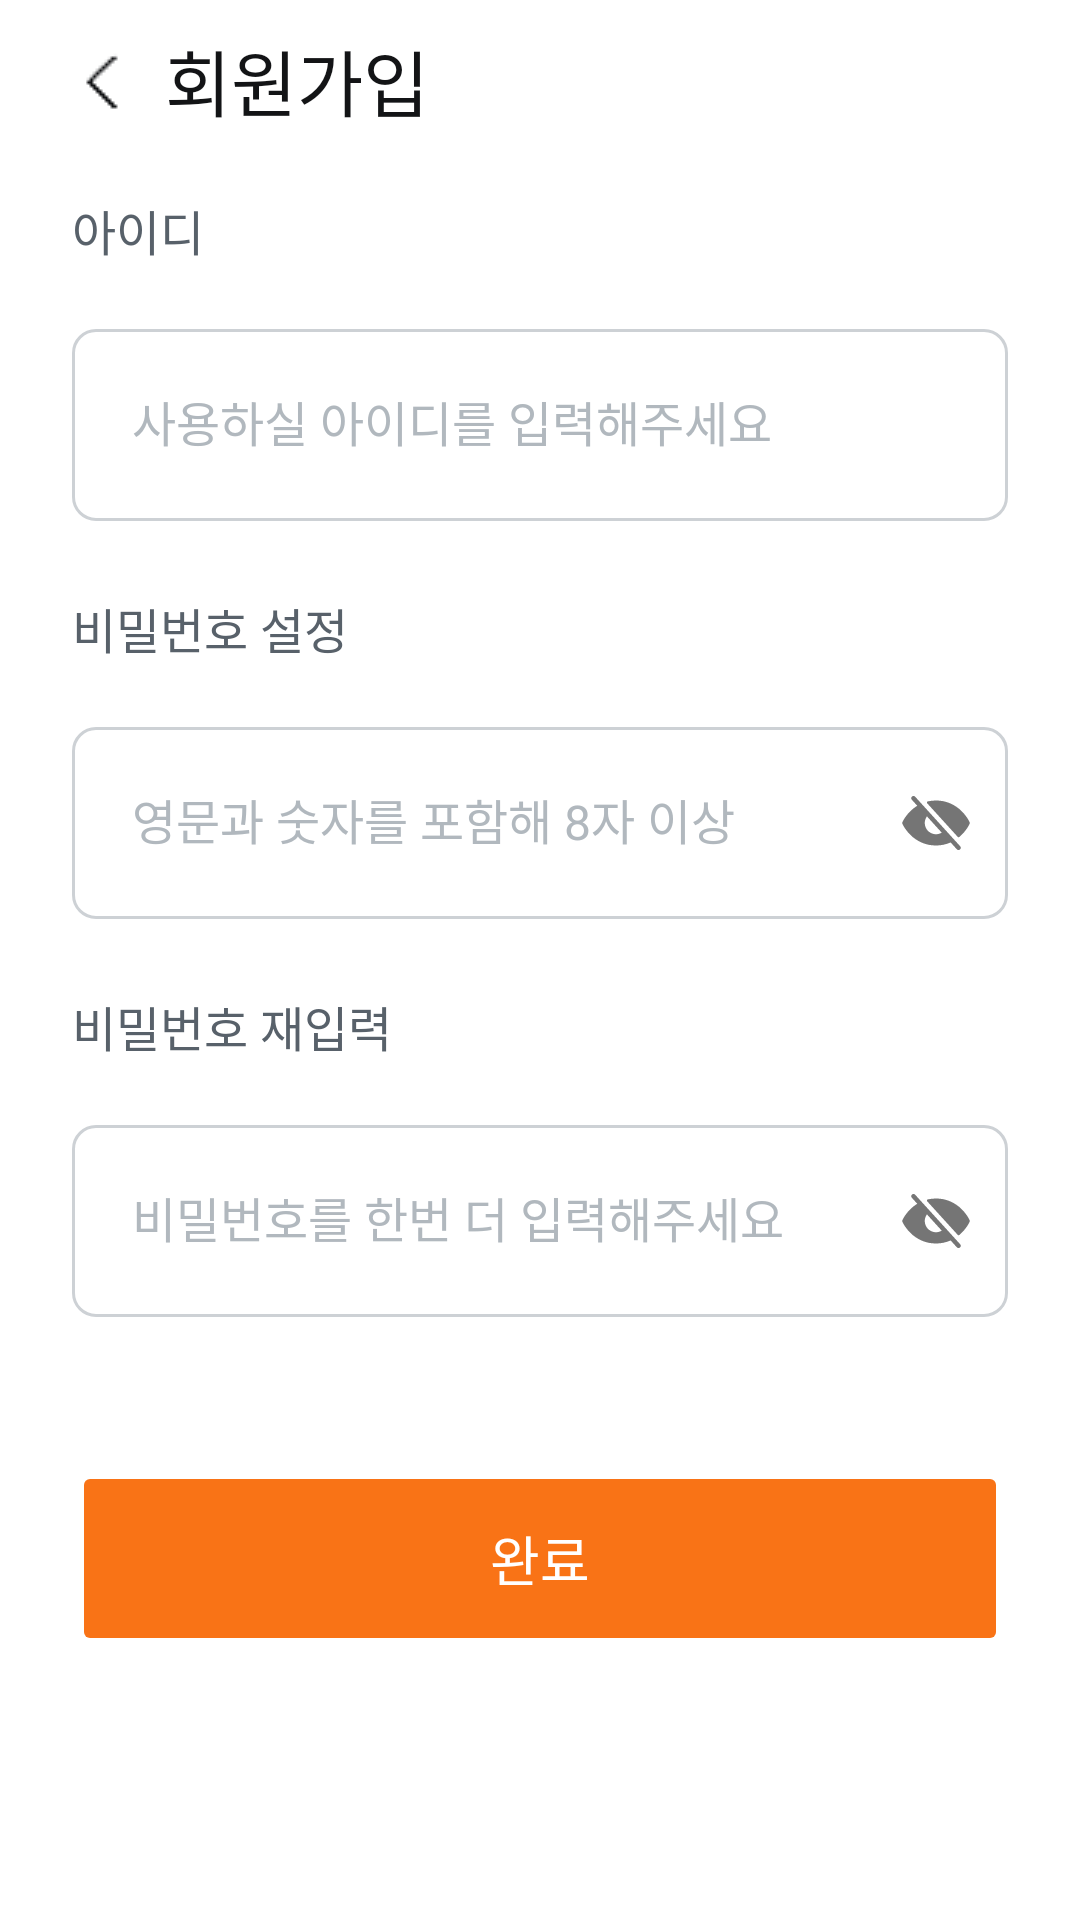

Where icons sit on this 1080px x 1920px app screen, as Rect(x1, y1, x2, y2):
back: Rect(86, 56, 118, 109)
